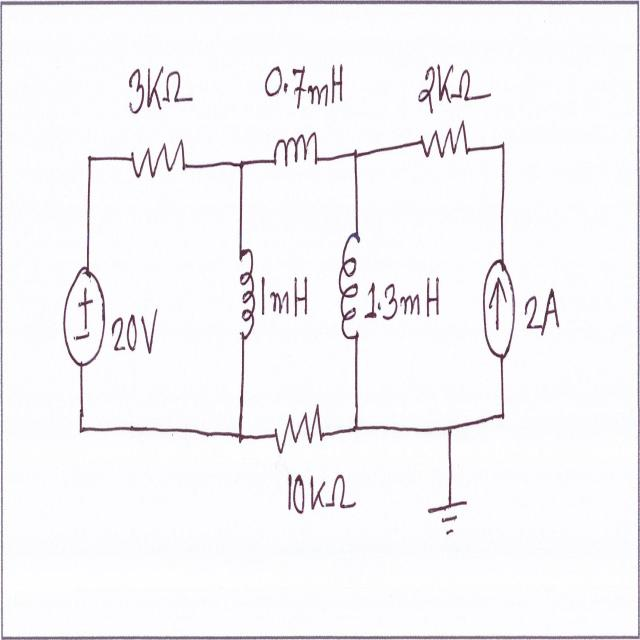current_source: (479, 251, 520, 367)
ground: (422, 489, 475, 554)
inductor: (336, 216, 363, 352), (271, 127, 320, 184), (234, 240, 258, 354)
resistor: (269, 398, 326, 464), (128, 137, 190, 190), (416, 111, 472, 168)
voltage_source: (58, 253, 109, 382)
